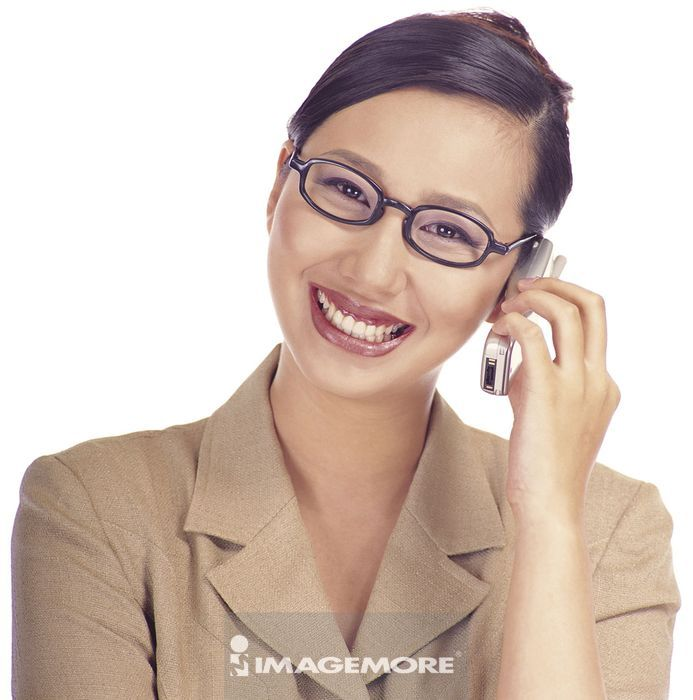talk: (274, 137, 622, 544)
